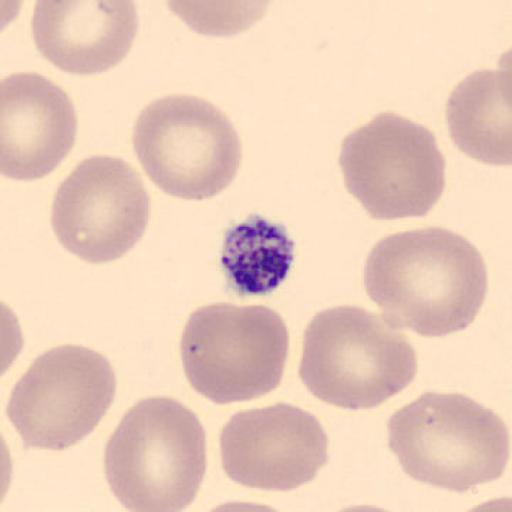Platelet: (217, 212, 298, 298)
RBC: (362, 224, 490, 338), (296, 302, 419, 412), (386, 389, 510, 494), (101, 393, 209, 512), (130, 92, 244, 204), (336, 109, 448, 222), (5, 343, 119, 453), (176, 300, 290, 407), (49, 152, 153, 266), (217, 400, 331, 494), (2, 70, 79, 182), (29, 1, 142, 77), (445, 65, 512, 168), (162, 0, 276, 39), (1, 297, 25, 383), (183, 496, 301, 512), (0, 427, 14, 510), (452, 493, 511, 512), (317, 502, 415, 512), (0, 0, 25, 35)
